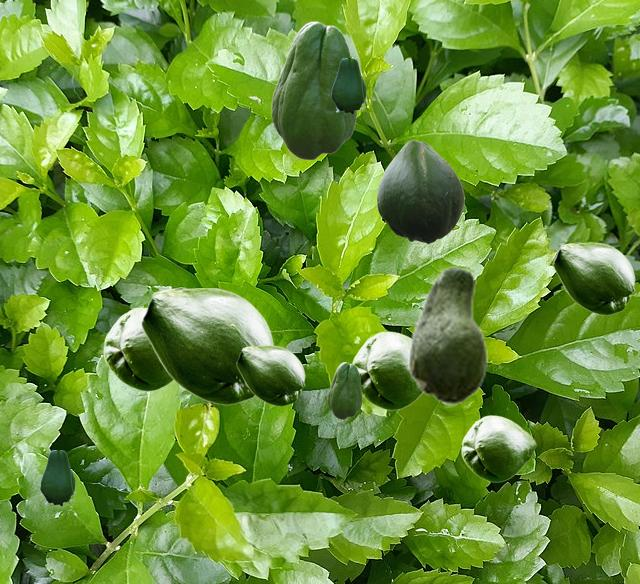sayote: (141, 287, 273, 404), (271, 21, 356, 159), (408, 266, 486, 404), (377, 140, 463, 243), (553, 242, 634, 314), (103, 307, 173, 390), (352, 331, 422, 409), (461, 415, 535, 481), (236, 345, 304, 405), (331, 58, 366, 114), (40, 450, 75, 506), (327, 362, 361, 418)
